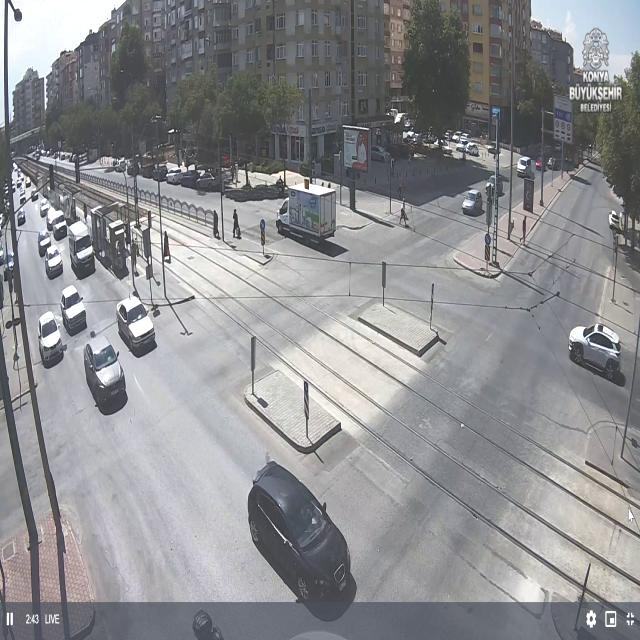Car: (245, 460, 353, 603), (84, 335, 126, 406), (569, 322, 622, 377), (116, 295, 156, 354), (37, 311, 64, 365), (60, 285, 87, 334), (44, 244, 63, 278), (51, 210, 68, 240), (462, 190, 482, 213), (484, 174, 504, 196), (179, 169, 203, 187), (196, 172, 220, 189), (38, 230, 52, 257), (165, 167, 184, 185), (370, 146, 391, 162), (608, 210, 622, 232), (46, 210, 59, 230), (152, 165, 168, 181), (534, 156, 546, 172), (40, 198, 50, 217), (465, 143, 479, 156), (127, 162, 140, 176), (459, 132, 473, 144), (451, 131, 464, 143), (114, 160, 127, 172), (17, 210, 26, 226), (486, 144, 498, 155), (547, 157, 557, 170), (31, 190, 39, 201), (19, 193, 26, 205), (18, 187, 26, 196), (16, 178, 23, 188), (25, 177, 31, 187)
Truck: (277, 182, 338, 244)
Van: (67, 221, 95, 276)
